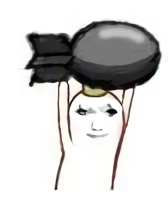dragon: (75, 105, 118, 139)
